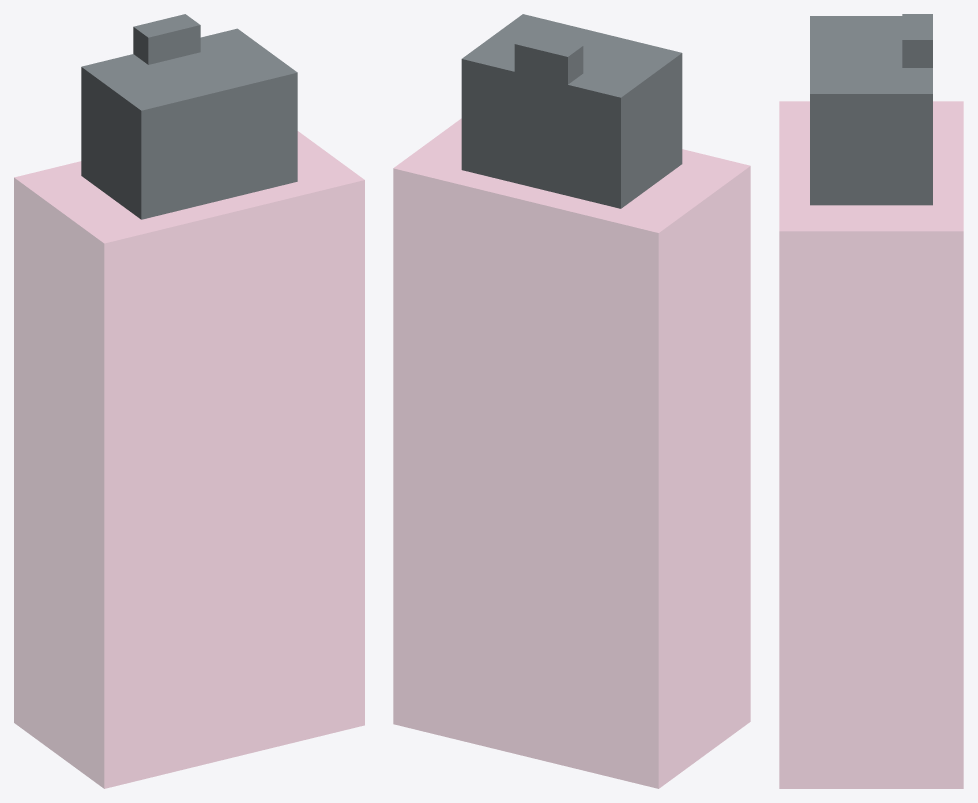
The model's file is small_lighter.glb.
The picture shows the model from 3 angles, left to right: view 1: azimuth 30°, elevation 25°; view 2: azimuth 150°, elevation 25°; view 3: azimuth 270°, elevation 25°; orthographic projection. The views are drawn at different scales.
Visible parts, largest first — view 1: small_lighter:lighter; view 2: small_lighter:lighter; view 3: small_lighter:lighter.
Boxes of the visible parts, x1=… form: small_lighter:lighter: x1=14, y1=14, x2=364, y2=788; small_lighter:lighter: x1=393, y1=14, x2=750, y2=788; small_lighter:lighter: x1=779, y1=14, x2=963, y2=788.
Bounding box in the file's own units: 0.02 × 0.05 × 0.012.
